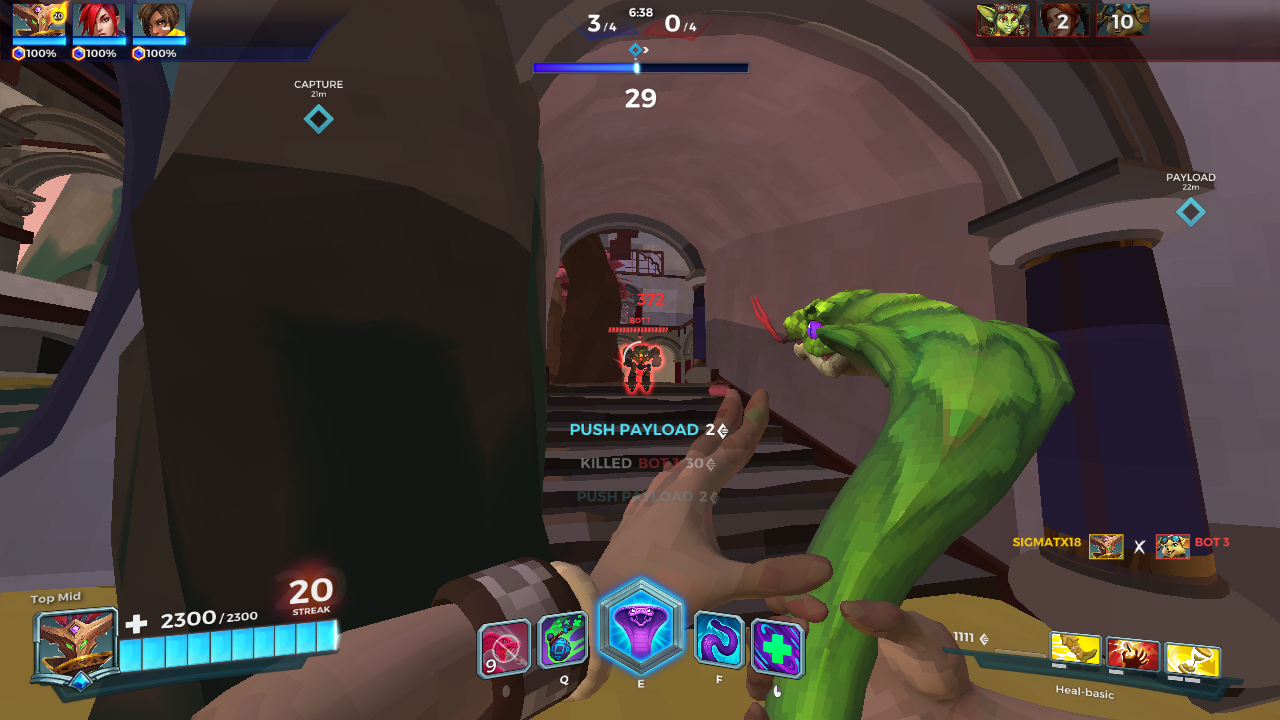model: (617, 337, 666, 394)
